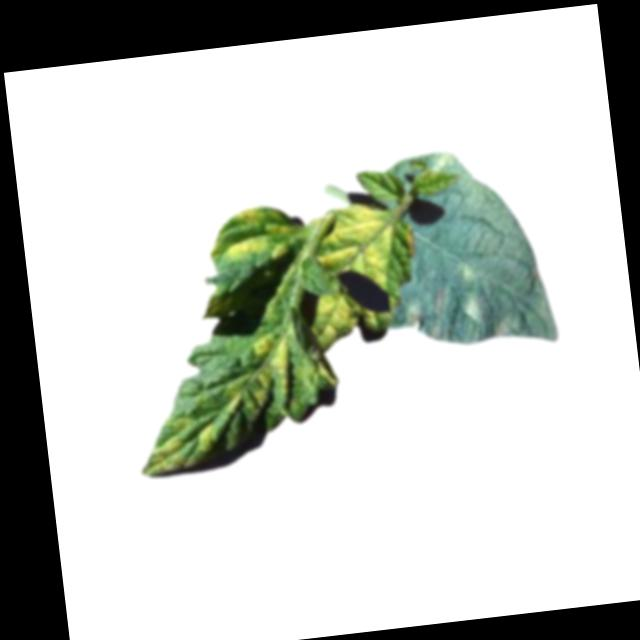Leaf_Mold: (403, 277, 515, 350), (214, 331, 301, 421), (310, 199, 396, 289), (205, 201, 295, 269), (135, 414, 219, 477), (306, 288, 367, 352)
